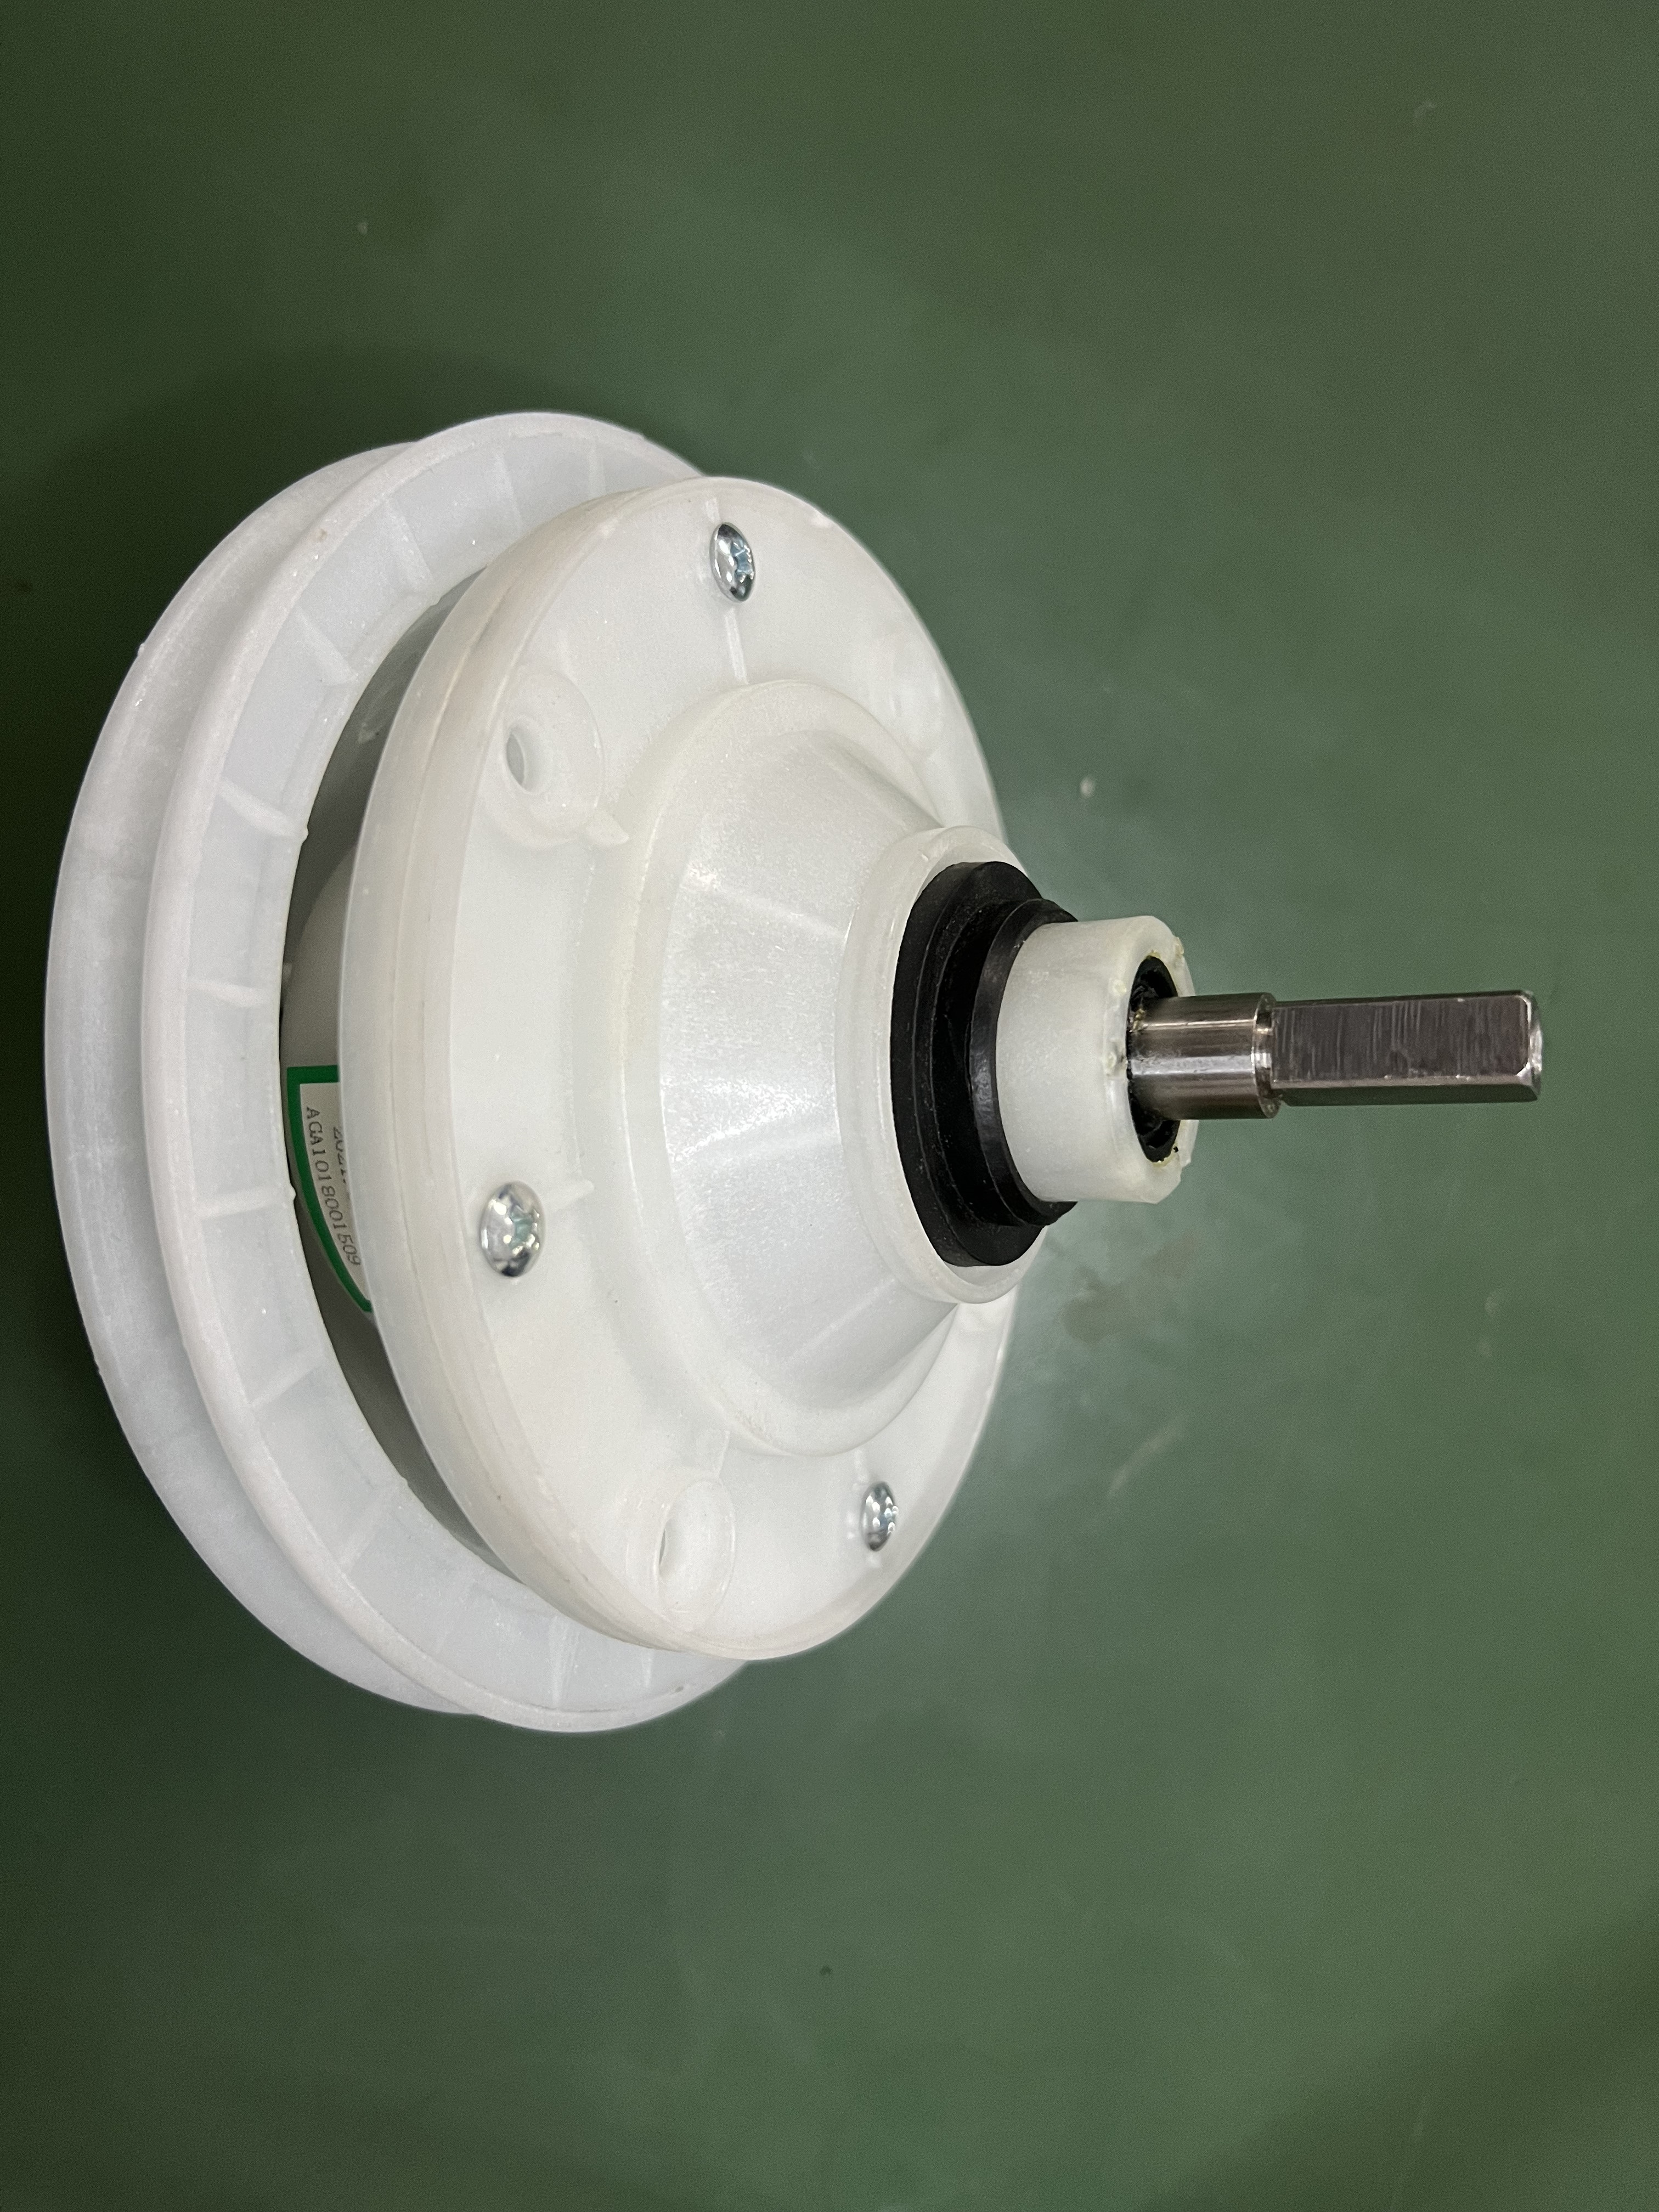gear_box_ovul: (35, 416, 1537, 1733)
